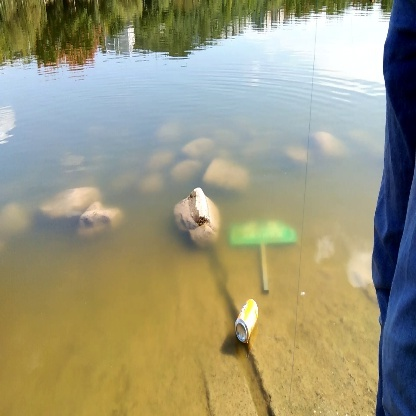bottle: (231, 293, 269, 350)
